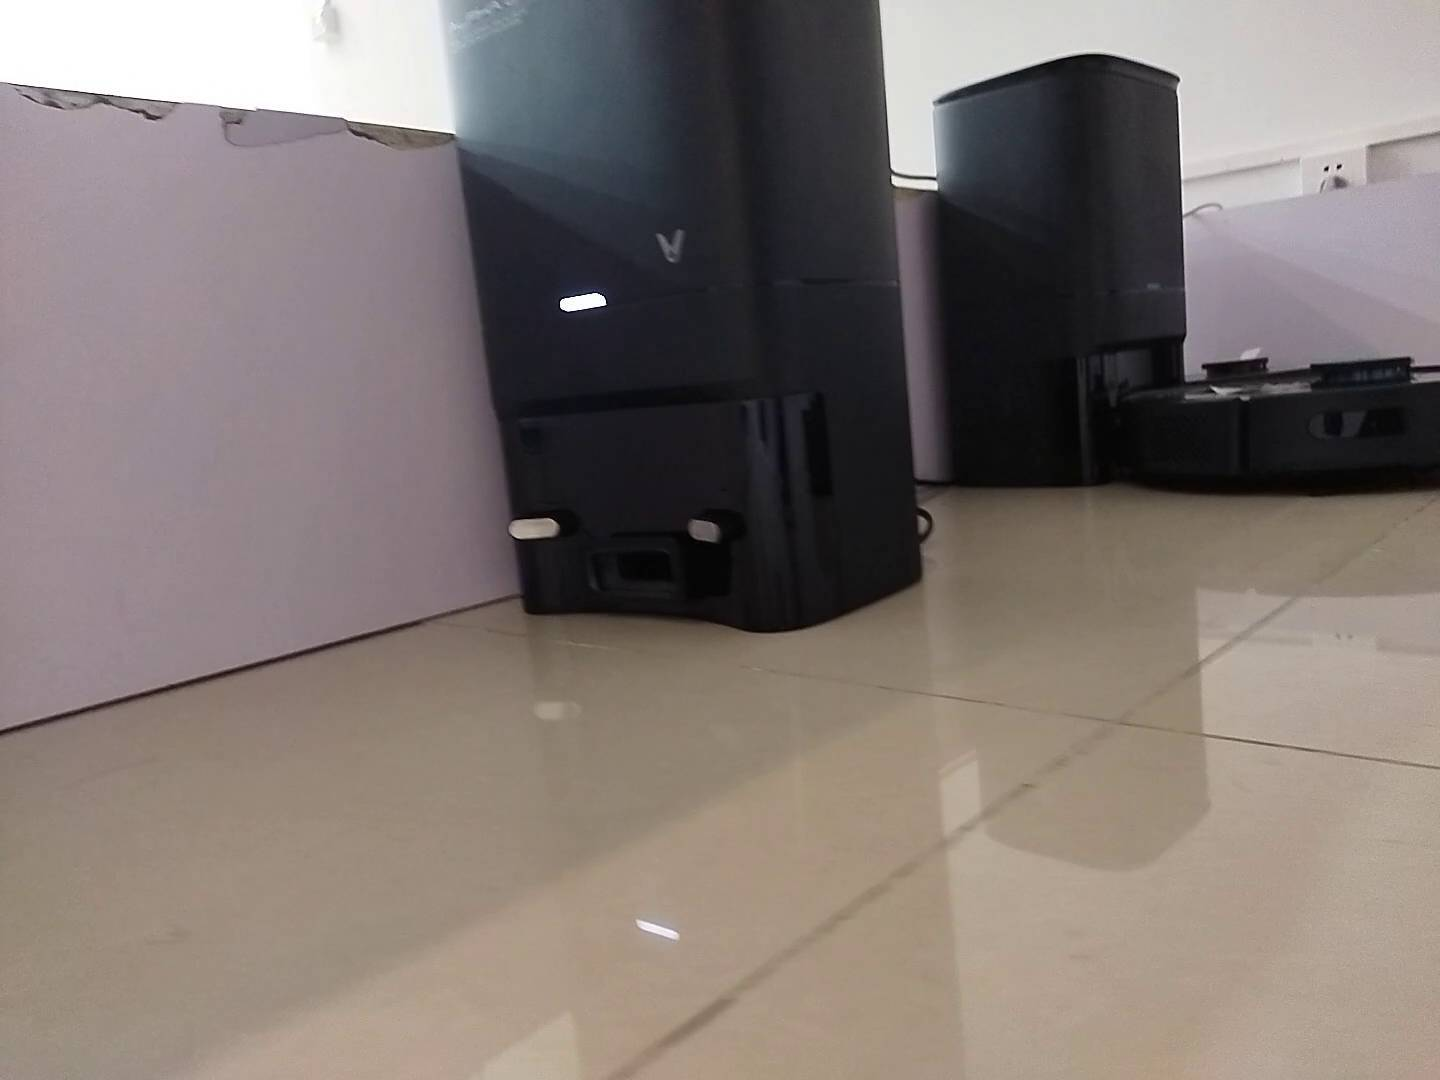dust collecting barrel: (440, 1, 923, 635), (933, 52, 1183, 489)
